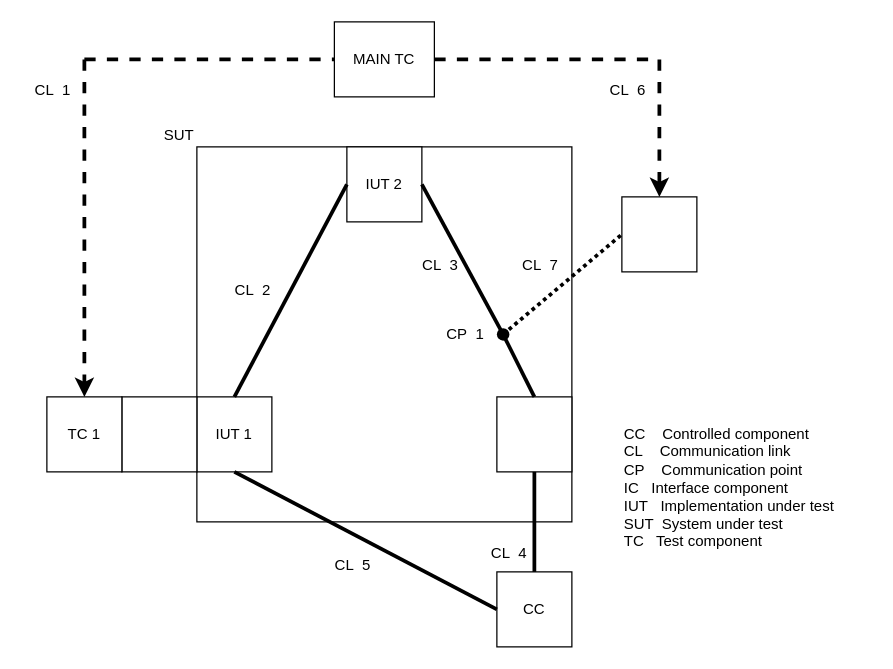
This 893x669 diagram has some shape labels left out. Each missing label, with the centre of its shape:
IC 1: the point at 159,434
IUT 3: the point at 534,434
TC 2: the point at 659,234
